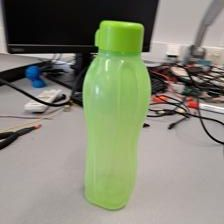bottle: (80, 20, 150, 209)
